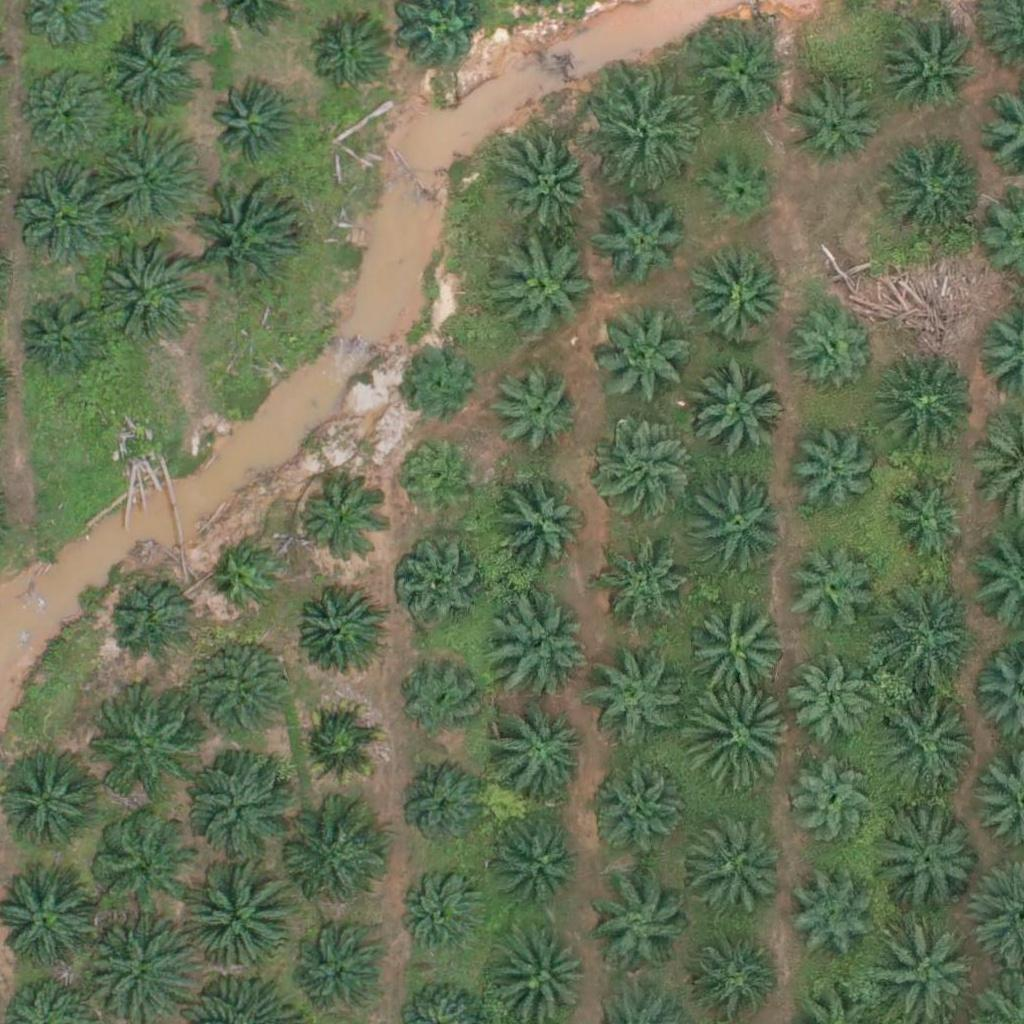Kelapa_Sawit: (587, 77, 700, 191), (870, 682, 983, 795), (871, 582, 984, 695), (183, 857, 296, 970), (184, 742, 297, 855), (185, 182, 298, 295), (681, 681, 793, 795), (280, 801, 392, 914), (88, 119, 200, 232), (692, 25, 792, 126), (878, 17, 978, 118), (880, 813, 980, 914), (692, 605, 792, 706), (584, 653, 684, 754), (586, 763, 686, 864), (491, 699, 591, 800), (85, 699, 185, 800), (91, 811, 191, 912), (3, 747, 103, 848), (879, 138, 979, 239), (592, 419, 692, 520), (484, 360, 584, 461), (94, 243, 194, 344), (19, 160, 119, 261), (105, 22, 205, 122), (680, 816, 780, 916), (589, 873, 689, 973), (490, 480, 590, 580), (493, 596, 593, 696), (192, 634, 292, 734), (874, 357, 974, 457), (688, 246, 788, 346), (688, 359, 788, 459), (687, 474, 787, 574), (596, 304, 696, 404), (500, 134, 600, 234), (491, 240, 591, 340), (24, 65, 112, 154), (783, 549, 871, 637), (787, 661, 875, 749), (685, 932, 773, 1020), (606, 550, 694, 638), (493, 816, 581, 904), (394, 437, 482, 525), (398, 655, 486, 743), (399, 767, 487, 855), (399, 872, 487, 960), (107, 575, 195, 663), (883, 470, 971, 558), (793, 80, 881, 168), (305, 15, 392, 103), (789, 758, 876, 846), (790, 877, 877, 965), (396, 538, 483, 626), (298, 479, 385, 567), (294, 584, 381, 672), (294, 702, 381, 790), (291, 923, 378, 1011), (790, 424, 877, 512), (787, 301, 874, 389), (597, 201, 684, 289), (396, 338, 483, 426), (211, 84, 298, 172), (20, 291, 107, 379), (210, 541, 285, 617), (701, 150, 776, 226)
